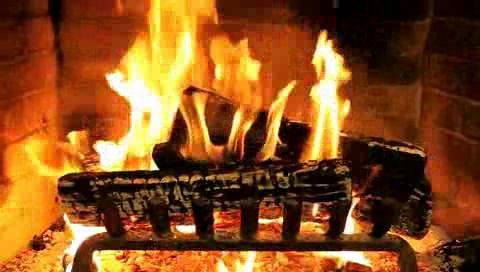fire: (14, 0, 480, 182)
